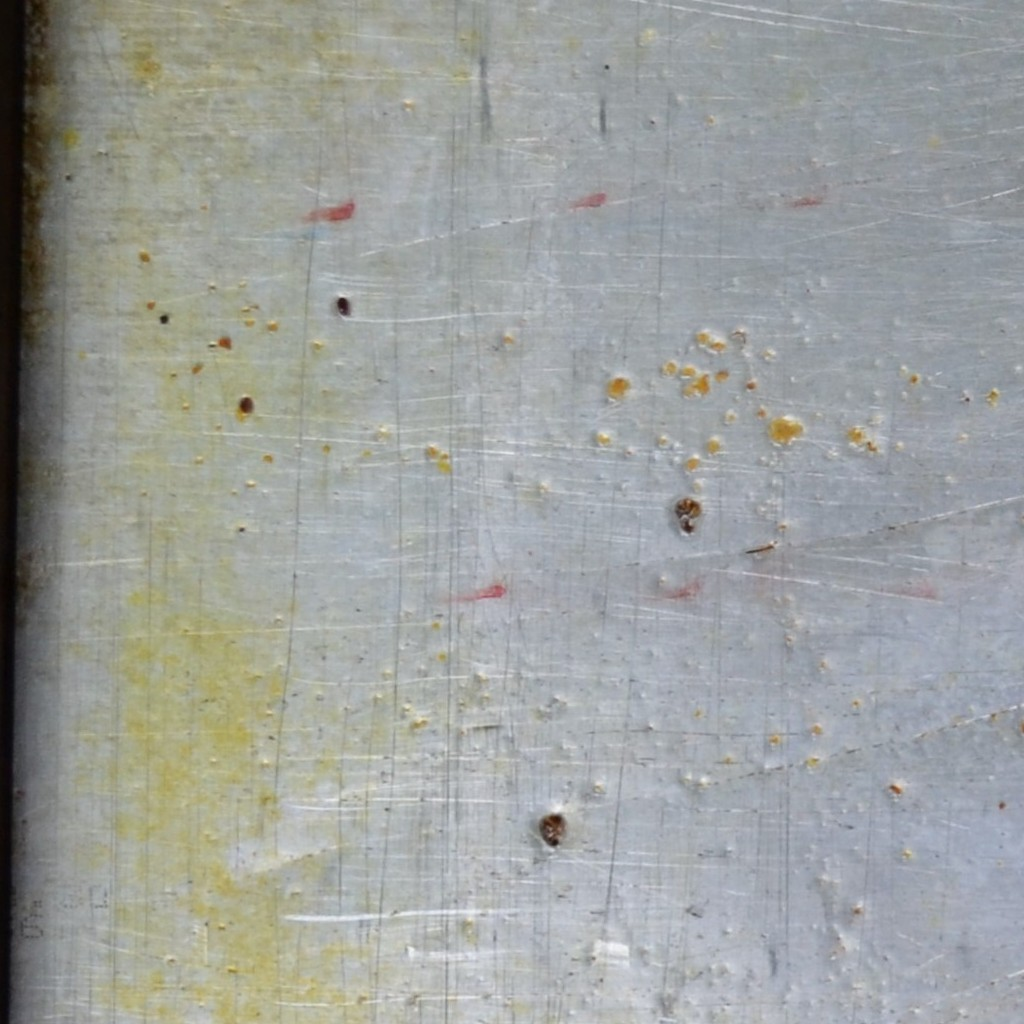varroa: (334, 293, 351, 318), (238, 394, 254, 417)
